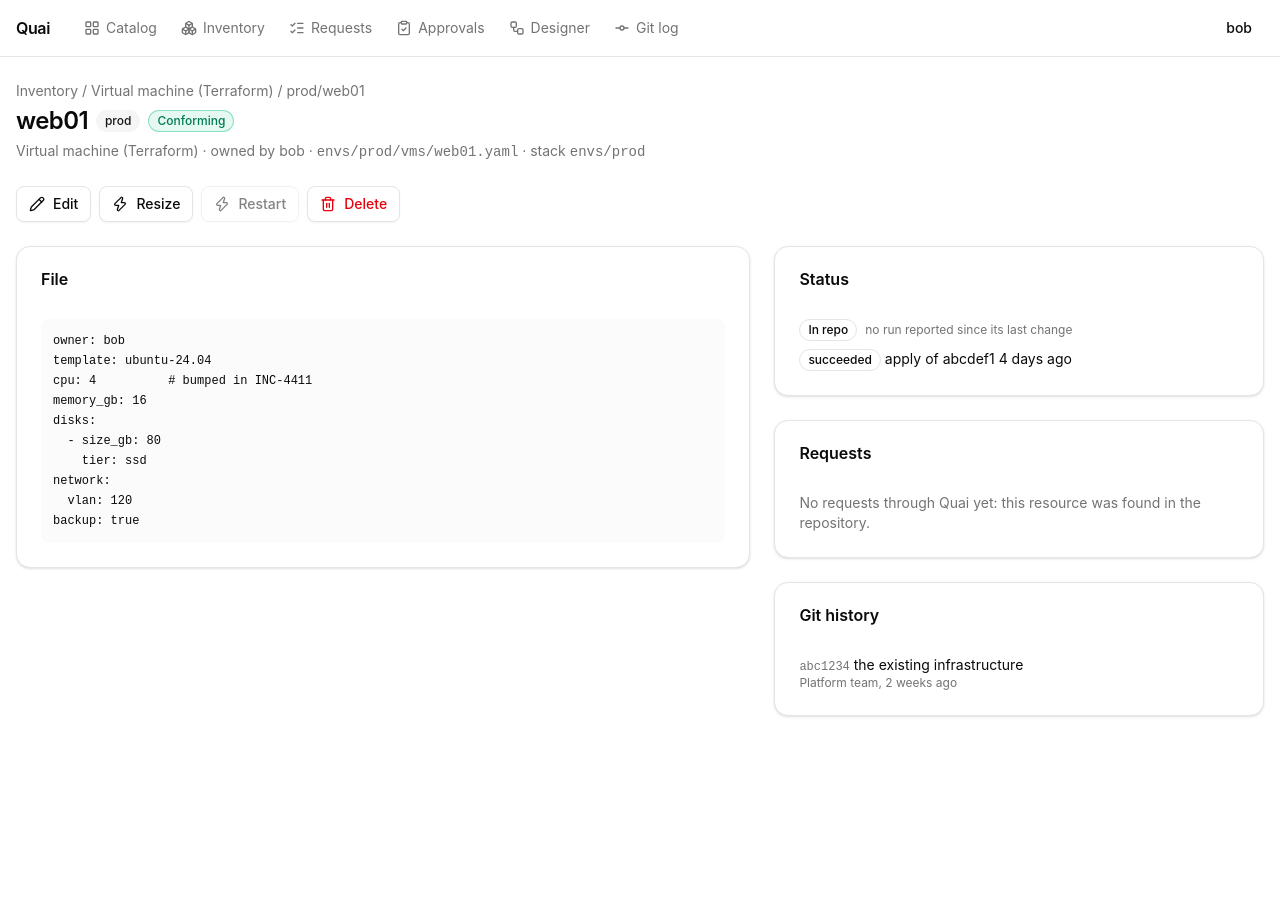
an action's form starts from the current values and shows the server's errors
This screenshot has width=1280, height=900.
Click the button "Resize" at point(146, 204), box left=99, top=186, right=193, bottom=222
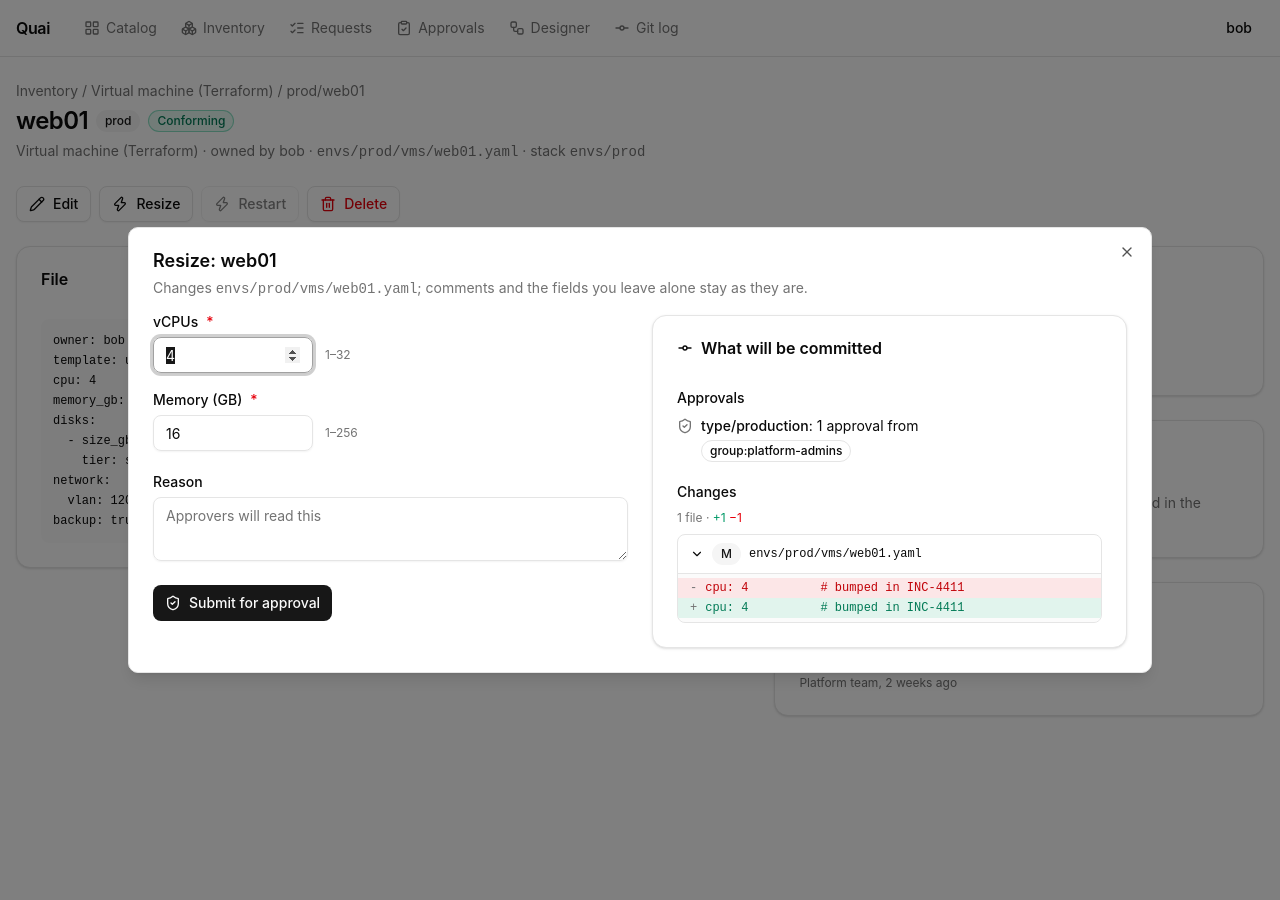
Expected: the number field labelled "Memory (GB) *" holds "16", left=153, top=415, right=313, bottom=451
Replace the text in the number field labelled "vCPUs *" with "64" at point(233, 355), box left=153, top=337, right=313, bottom=373
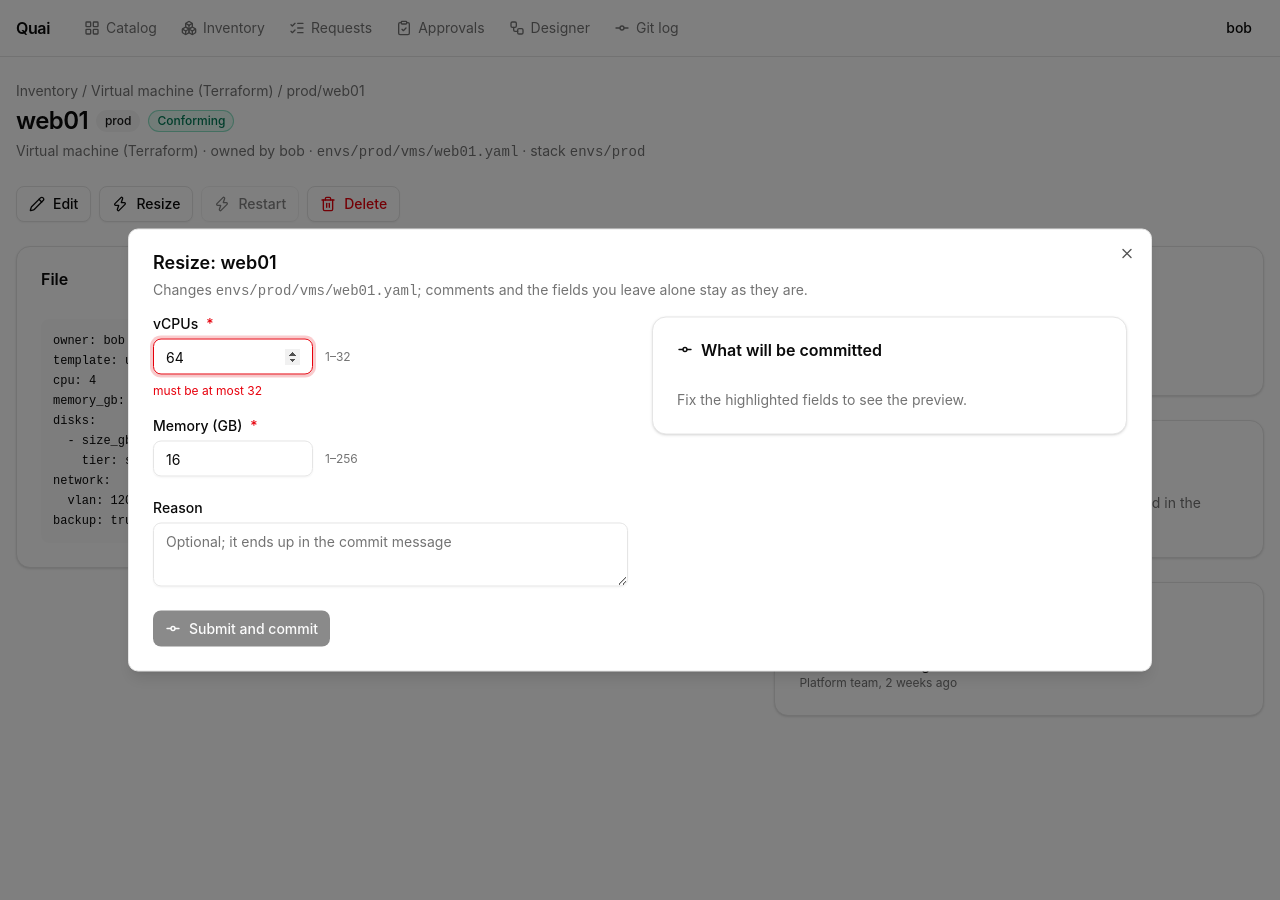
Expected: the text "must be at most 32" is shown, left=153, top=382, right=262, bottom=398
